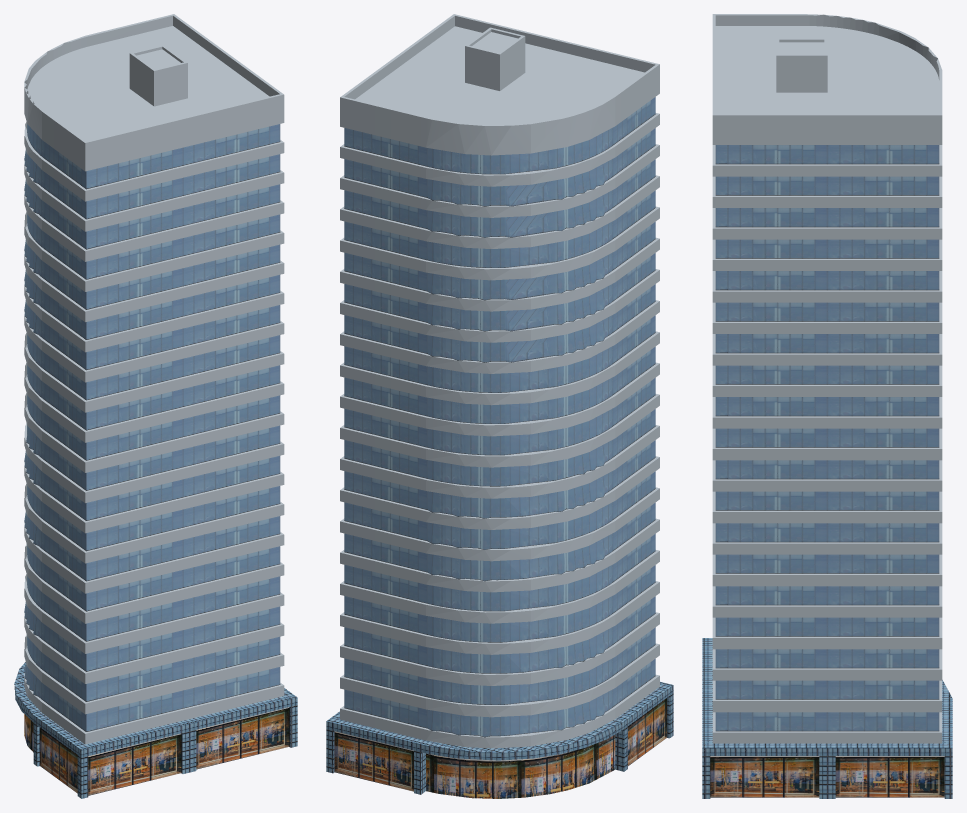
The model's file is Medium_Building_3.fbx.
3 renders of one model, left to right at view 1: azimuth 30°, elevation 25°; view 2: azimuth 150°, elevation 25°; view 3: azimuth 270°, elevation 25°, orthographic. The views are drawn at different scales.
Visible parts, largest first — view 1: Medium_Building_3; view 2: Medium_Building_3; view 3: Medium_Building_3.
Boxes of the visible parts, x1=… form: Medium_Building_3: x1=14, y1=14, x2=297, y2=798; Medium_Building_3: x1=326, y1=14, x2=673, y2=798; Medium_Building_3: x1=702, y1=14, x2=952, y2=798.
Size of the model in its own units: 2548 by 7616 by 2449.
